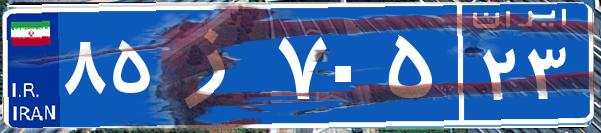0: (330, 28, 385, 110)
2: (475, 38, 525, 113)
3: (525, 38, 570, 115)
5: (385, 28, 445, 110), (110, 28, 158, 105)
7: (273, 28, 330, 110)
8: (57, 26, 110, 107)
ز: (158, 15, 273, 115)
